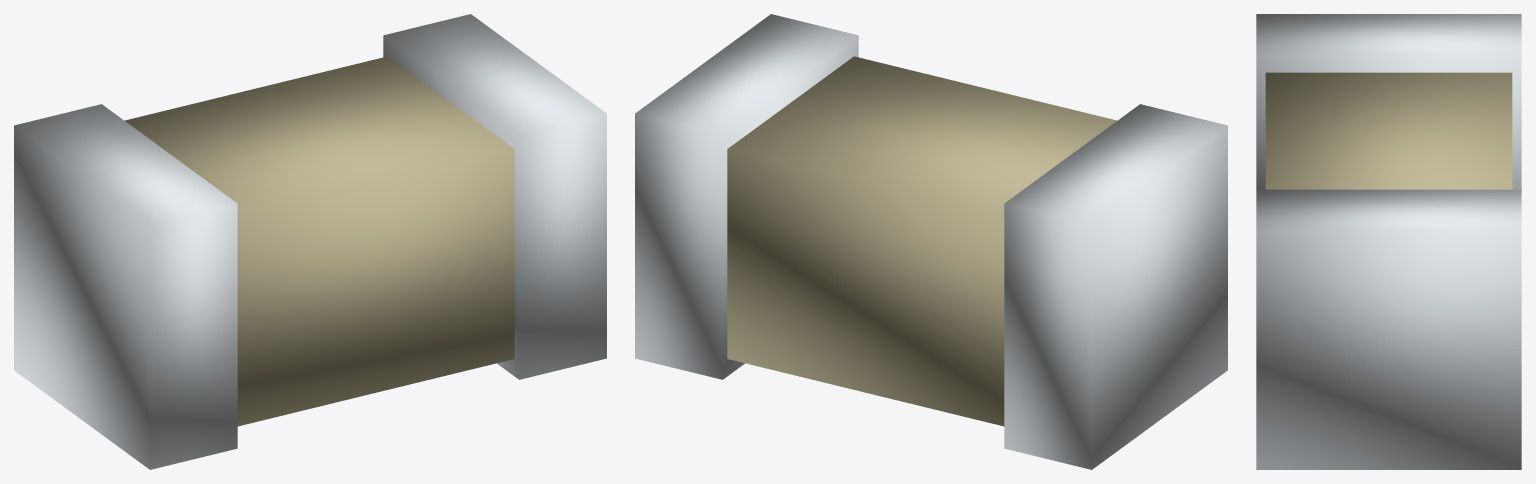
The model's file is 39_L95_C3_PowerInput_10uF.fbx.
3 renders of one model, left to right at view 1: azimuth 30°, elevation 25°; view 2: azimuth 150°, elevation 25°; view 3: azimuth 270°, elevation 25°, orthographic. The views are drawn at different scales.
Visible parts, largest first — view 1: L95_PowerInput_10uF_Part_0001, L95_PowerInput_10uF_Part_0000; view 2: L95_PowerInput_10uF_Part_0001, L95_PowerInput_10uF_Part_0000; view 3: L95_PowerInput_10uF_Part_0001, L95_PowerInput_10uF_Part_0000.
Part boxes in pixels (<box>): L95_PowerInput_10uF_Part_0001: <box>14,14,606,469</box>; L95_PowerInput_10uF_Part_0000: <box>125,56,514,426</box>; L95_PowerInput_10uF_Part_0001: <box>635,14,1227,469</box>; L95_PowerInput_10uF_Part_0000: <box>727,56,1116,426</box>; L95_PowerInput_10uF_Part_0001: <box>1256,14,1521,469</box>; L95_PowerInput_10uF_Part_0000: <box>1265,72,1512,189</box>.
Bounding box in the file's own units: 0.0546 × 0.028 × 0.0282.
